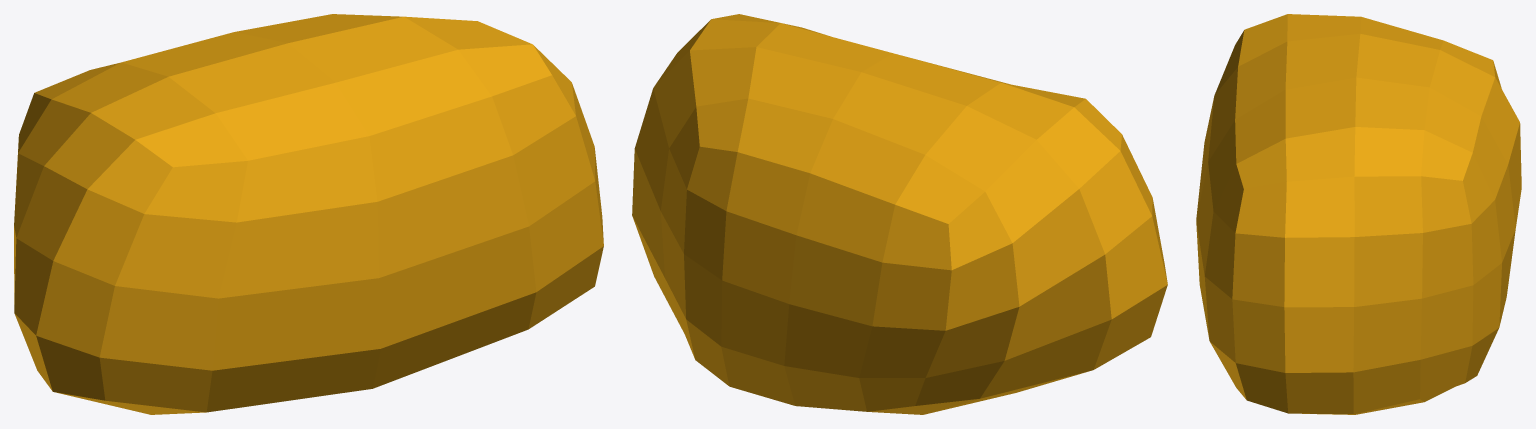
Rendered from Potato_2.glb.
3 renders of one model, left to right at view 1: azimuth 30°, elevation 25°; view 2: azimuth 150°, elevation 25°; view 3: azimuth 270°, elevation 25°, orthographic. The views are drawn at different scales.
Visible parts, largest first — view 1: Potato; view 2: Potato; view 3: Potato.
Part boxes in pixels (x1,y1,x2,y2): Potato: (14, 14, 603, 414); Potato: (632, 14, 1167, 414); Potato: (1196, 14, 1521, 414).
Size of the model in its own units: 0.3604 by 0.2047 by 0.2082.
